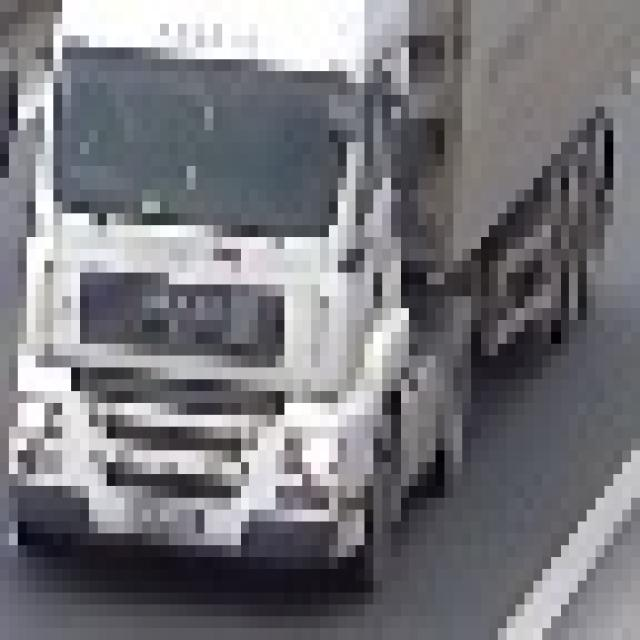TRUCK: (0, 0, 613, 580)
